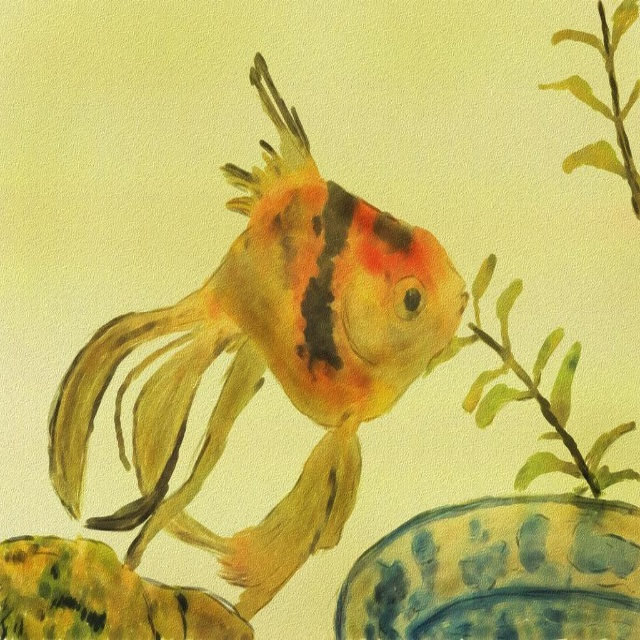Goldfish: (101, 80, 482, 519)
